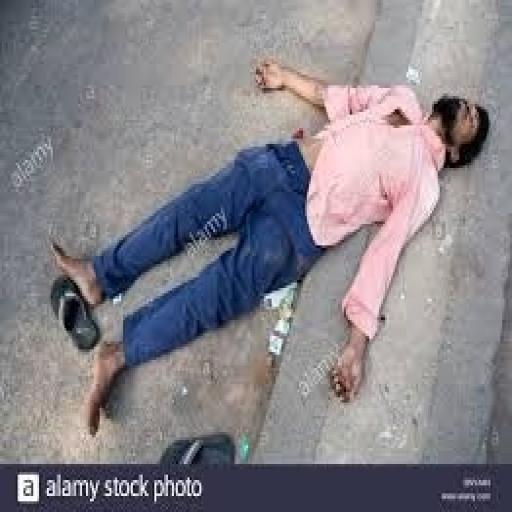sleeping: (47, 54, 490, 438)
